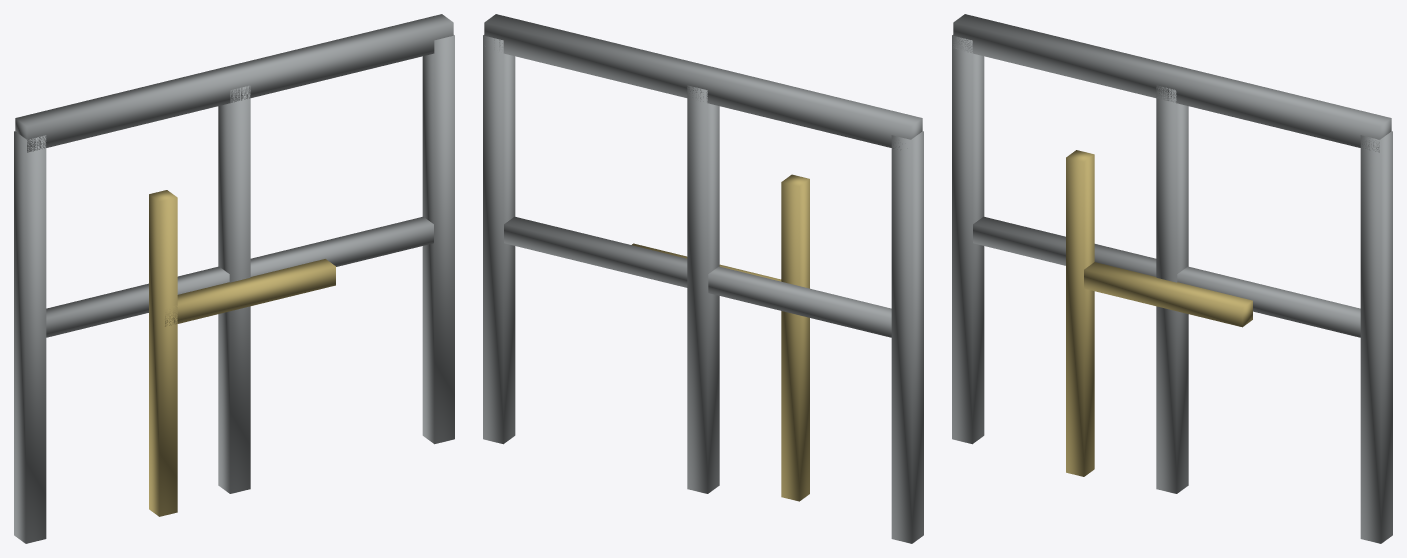
Rendered from residential_gate_l90_h85.glb.
3 renders of one model, left to right at view 1: azimuth 30°, elevation 25°; view 2: azimuth 150°, elevation 25°; view 3: azimuth 330°, elevation 25°, orthographic.
Visible parts, largest first — view 1: world; view 2: world; view 3: world.
Part boxes in pixels (x1,y1,x2,y2): world: [14, 14, 454, 543]; world: [483, 14, 923, 543]; world: [952, 14, 1392, 543].
Bounding box in the file's own units: 0.945 × 0.8775 × 0.0825.
